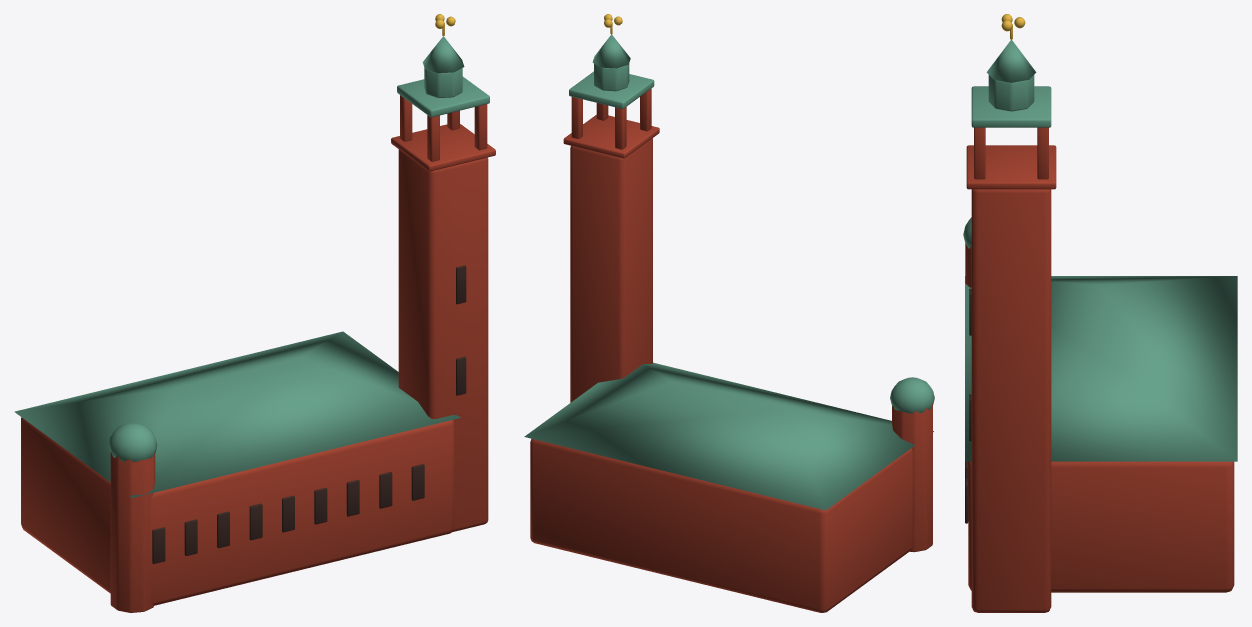
File: stadshuset.glb
3 views of the same model, side by side, from view 1: azimuth 30°, elevation 25°; view 2: azimuth 150°, elevation 25°; view 3: azimuth 270°, elevation 25° (orthographic). The views are drawn at different scales.
Parts seen in each view (by area): view 1: stadshuset; view 2: stadshuset; view 3: stadshuset.
Part boxes in pixels (x1,y1,x2,y2): stadshuset: (14,14,495,612); stadshuset: (524,14,934,612); stadshuset: (963,14,1237,612).
Size of the model in its own units: 15 by 19.27 by 8.25.
